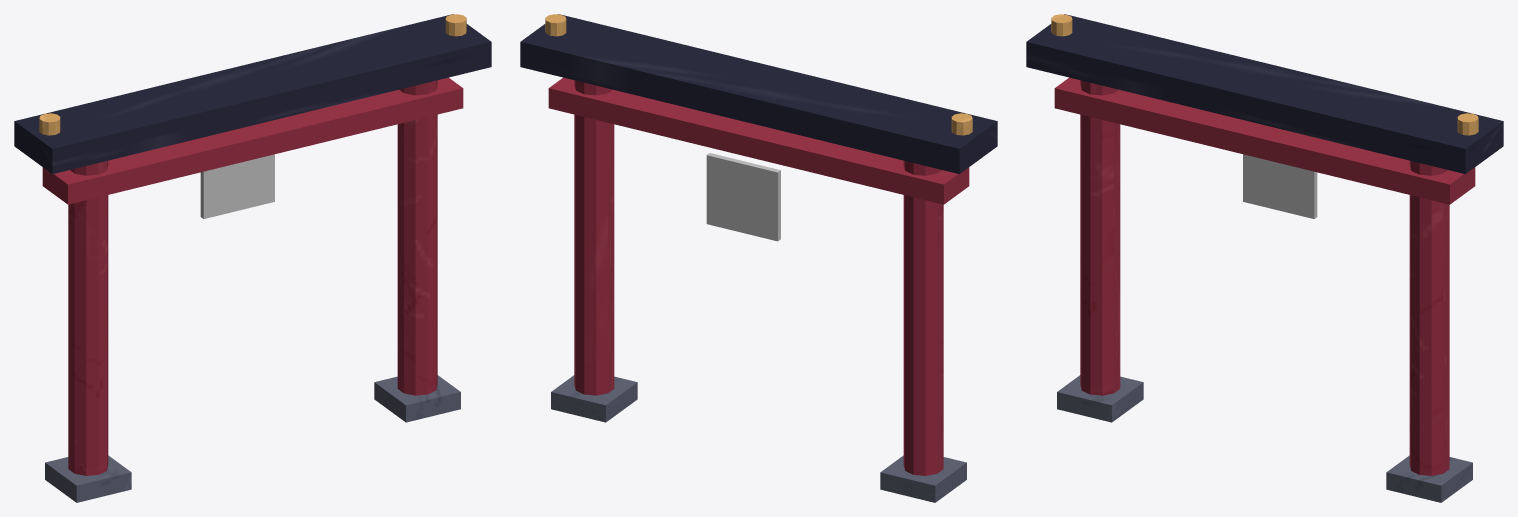
The model's file is dojo_torii_signature.obj.
The picture shows the model from 3 angles, left to right: view 1: azimuth 30°, elevation 25°; view 2: azimuth 150°, elevation 25°; view 3: azimuth 330°, elevation 25°; orthographic projection.
Visible parts, largest first — view 1: geometry_4, geometry_5, geometry_0, geometry_2, geometry_8, geometry_3, geometry_1; view 2: geometry_4, geometry_5, geometry_0, geometry_2, geometry_8, geometry_3, geometry_1; view 3: geometry_4, geometry_5, geometry_2, geometry_0, geometry_8, geometry_1, geometry_3.
Boxes of the visible parts, x1,y1,x2,y2 form: geometry_4: (14,14,491,173); geometry_5: (42,77,463,204); geometry_0: (68,160,108,475); geometry_2: (397,80,437,395); geometry_8: (200,154,274,218); geometry_3: (374,375,460,422); geometry_1: (45,455,131,502); geometry_4: (520,14,997,173); geometry_5: (548,77,969,204); geometry_0: (903,160,943,475); geometry_2: (574,80,614,395); geometry_8: (706,153,780,241); geometry_3: (551,375,637,422); geometry_1: (880,455,966,502); geometry_4: (1026,14,1503,173); geometry_5: (1054,77,1475,204); geometry_2: (1409,160,1449,475); geometry_0: (1080,80,1120,395); geometry_8: (1243,154,1317,218); geometry_1: (1057,375,1143,422); geometry_3: (1386,455,1472,502).
Size of the model in its own units: 8 by 6.6 by 1.2.
